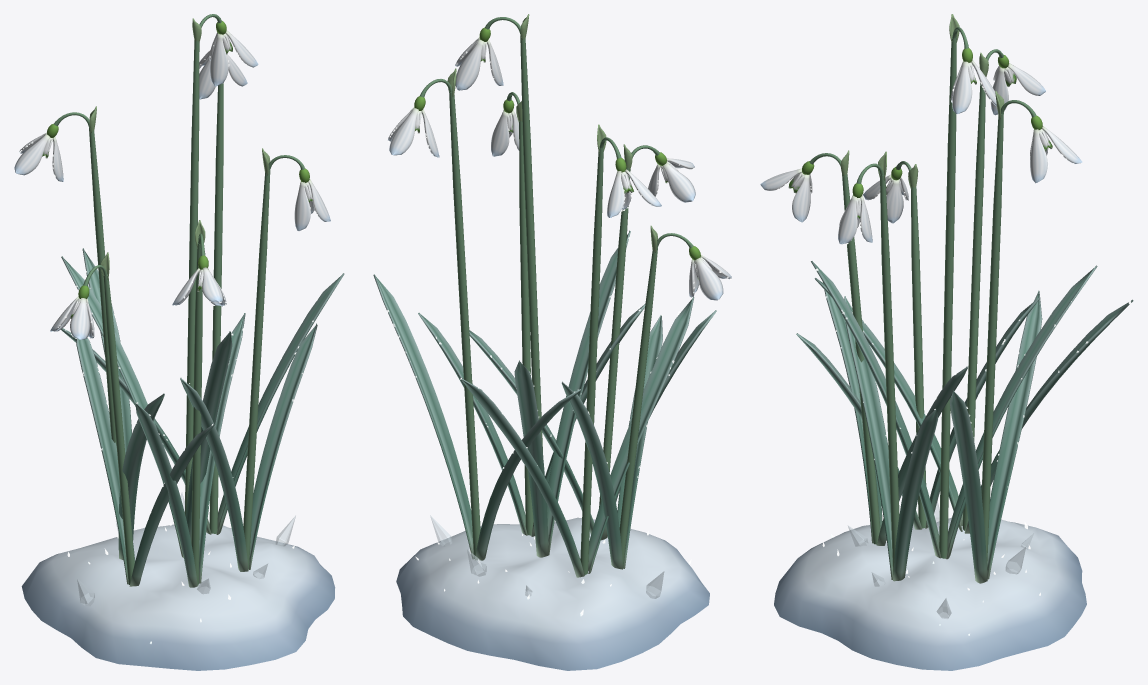
Rendered from f2_frost_snowdrop.glb.
The picture shows the model from 3 angles, left to right: view 1: azimuth 30°, elevation 25°; view 2: azimuth 150°, elevation 25°; view 3: azimuth 270°, elevation 25°; orthographic projection. The views are drawn at different scales.
Parts seen in each view (by area): view 1: f2_frost_snowdrop; view 2: f2_frost_snowdrop; view 3: f2_frost_snowdrop.
Boxes of the visible parts, x1=… form: f2_frost_snowdrop: x1=14, y1=14, x2=344, y2=670; f2_frost_snowdrop: x1=373, y1=14, x2=731, y2=670; f2_frost_snowdrop: x1=760, y1=14, x2=1133, y2=670.
Bounding box in the file's own units: 0.193 × 0.3347 × 0.1909.
